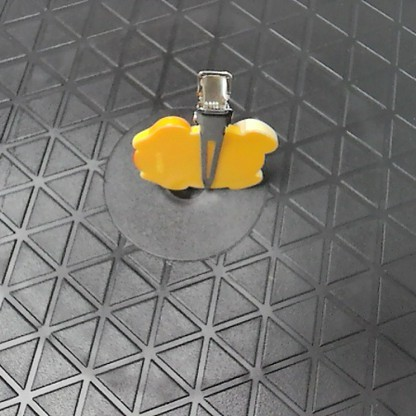dogclip: (127, 63, 279, 191)
